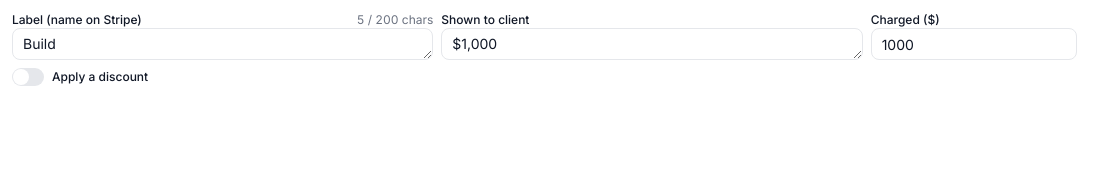
Test: MoneyFields discount inputs (RSL-33) › reveals the list + discount inputs when the discount is enabled
Expected: the text "List price ($)" is not shown
Click the switch at point(28, 77), box [12,68,44,86]
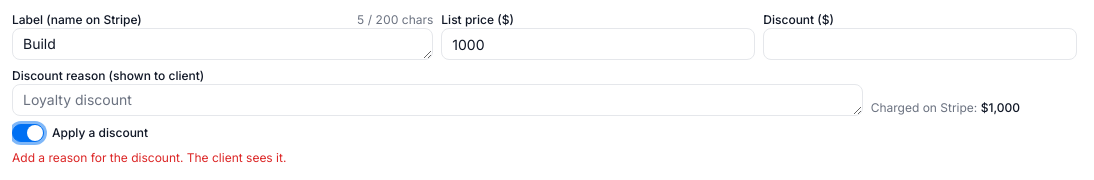
Result: the text "List price ($)" is shown at [441,12,514,27]
Result: the text "Discount ($)" is shown at [763,12,834,27]
